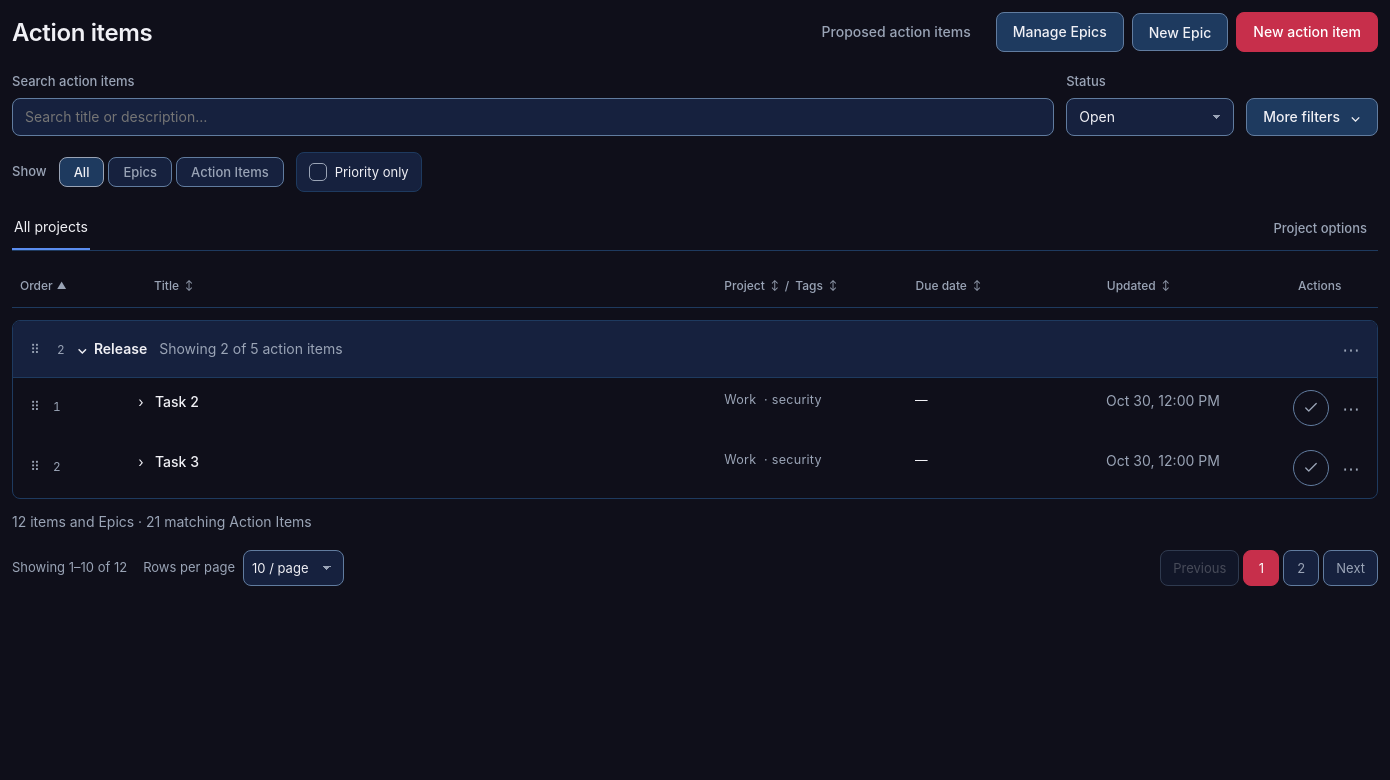
it: saved Action Item Epics › counts root groups separately and displays complete matching children with their sibling ranks
Check: the text "Showing 2 of 5 action items" is shown, box [159,338,343,360]
Check: the text named "Order 1" is shown, box [53,397,61,416]
Step 1. Click the button "⌄ Release" → click(112, 349), box [73,336,151,362]
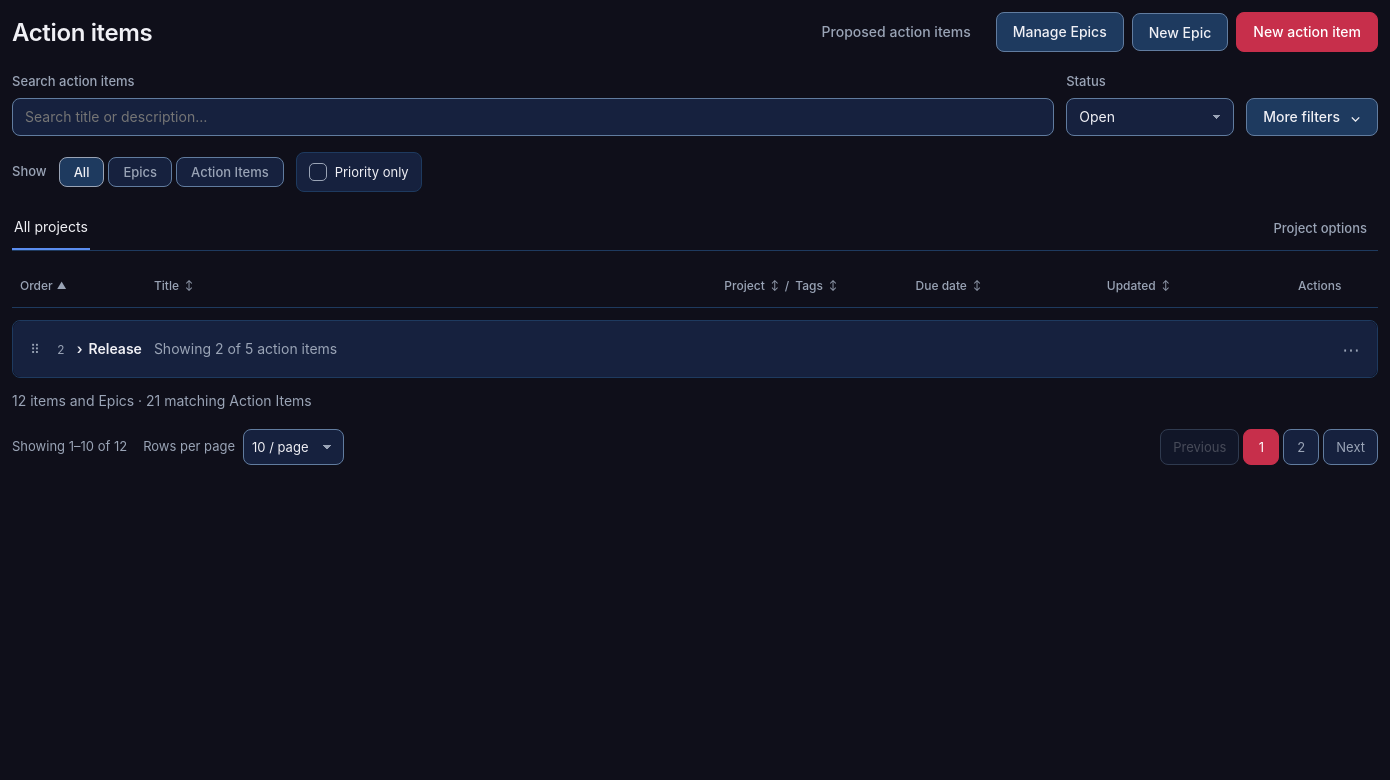
Check: the button "Task 2" is gone
